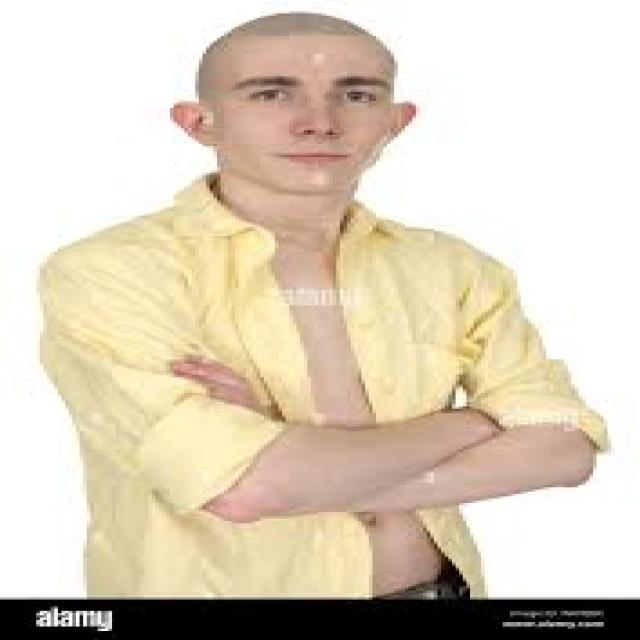bald: (160, 8, 442, 101)
